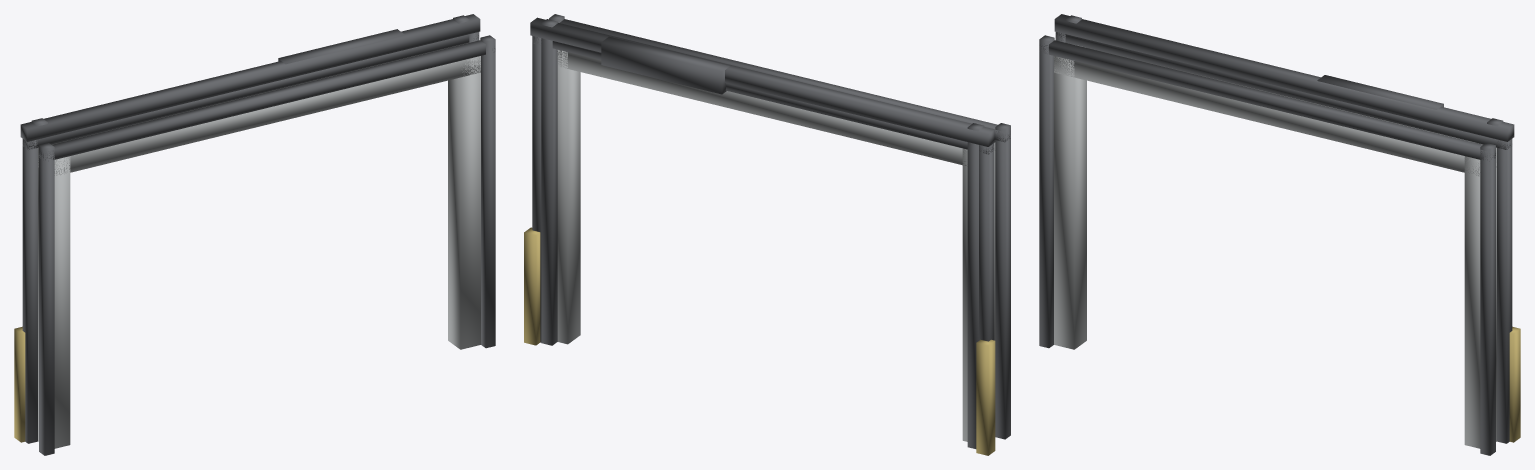
The model's file is bay_opening_loading_bay_w360_h240_d20.glb.
3 renders of one model, left to right at view 1: azimuth 30°, elevation 25°; view 2: azimuth 150°, elevation 25°; view 3: azimuth 330°, elevation 25°, orthographic.
Parts seen in each view (by area): view 1: world; view 2: world; view 3: world.
Boxes of the visible parts, x1=… form: world: x1=14, y1=14, x2=495, y2=455; world: x1=524, y1=14, x2=1010, y2=455; world: x1=1039, y1=14, x2=1520, y2=455.
Size of the model in its own units: 4.23 by 2.79 by 0.422.
